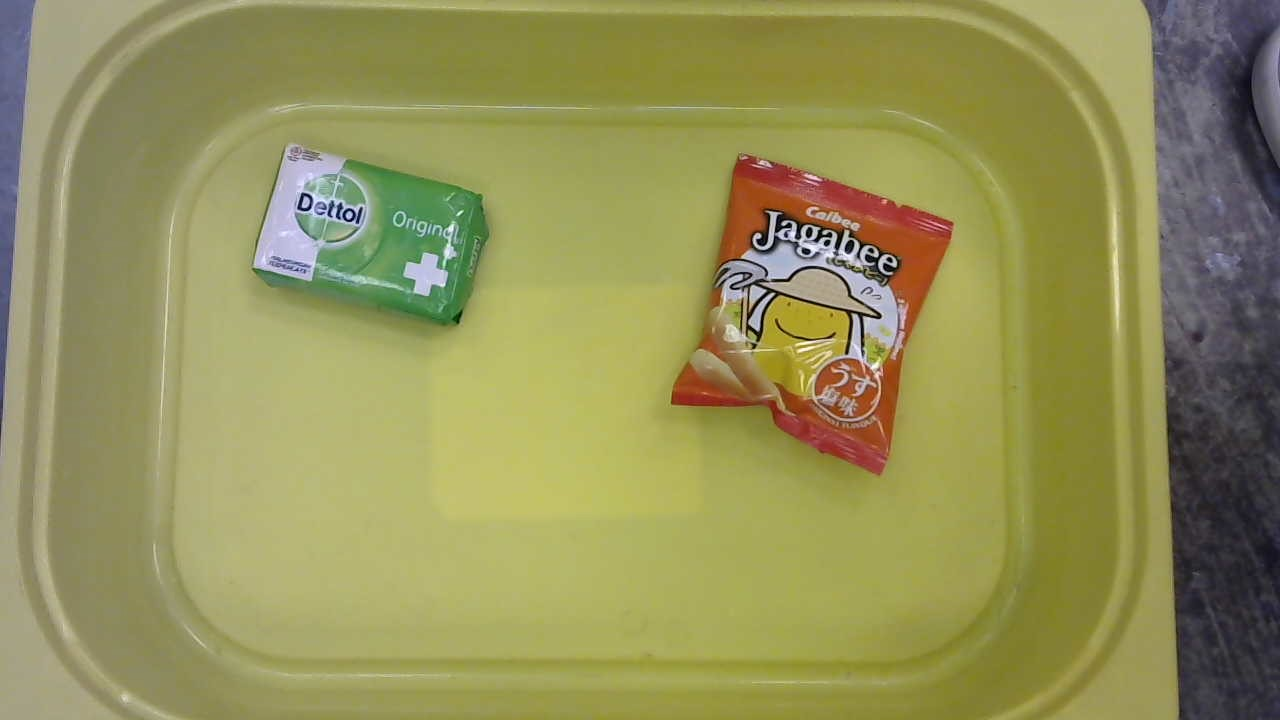Dettol: (247, 140, 498, 332)
JagabeeFarmer: (669, 148, 955, 478)
